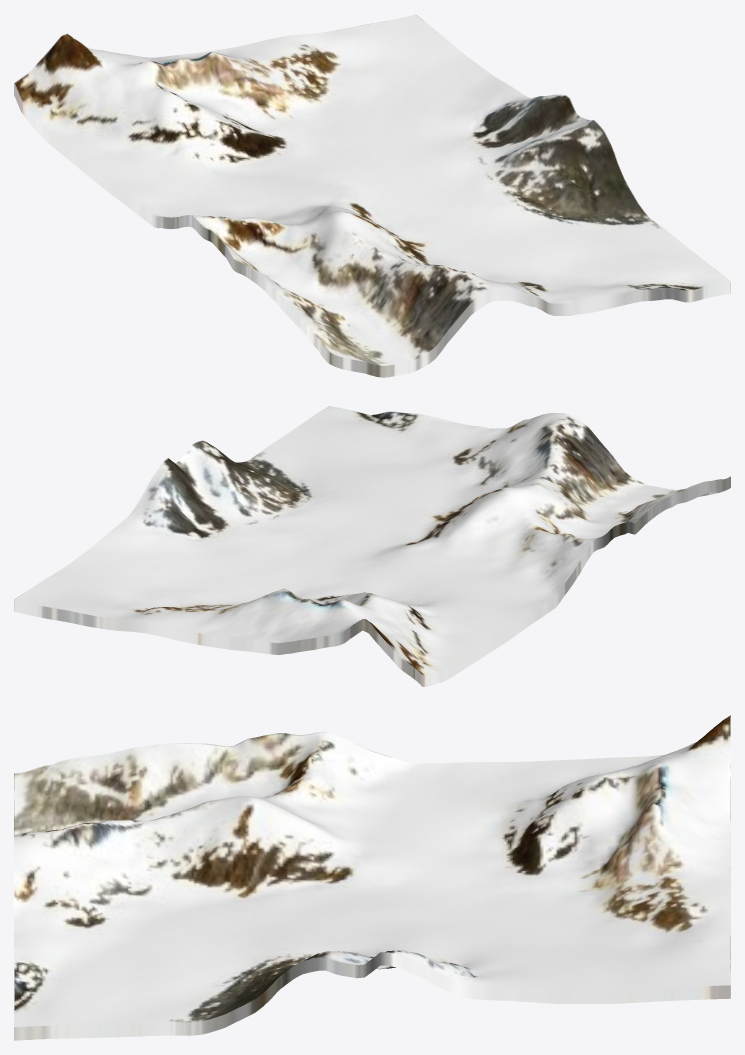
The picture shows the model from 3 angles, top to bottom: view 1: azimuth 30°, elevation 25°; view 2: azimuth 150°, elevation 25°; view 3: azimuth 270°, elevation 25°; orthographic projection. The views are drawn at different scales.
Parts seen in each view (by area): view 1: tile; view 2: tile; view 3: tile.
Part boxes in pixels (x1,y1,x2,y2): tile: (14, 14, 730, 377); tile: (14, 406, 730, 686); tile: (14, 715, 730, 1040).
Size of the model in its own units: 4050 by 1117 by 5505.
Materials: 1 (1 with a texture image).
